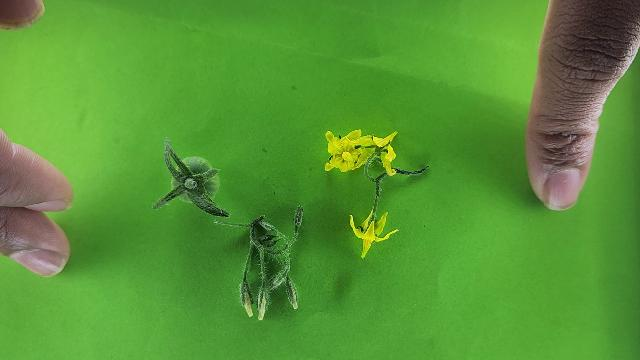Anthesis: (349, 206, 399, 259), (324, 128, 370, 172), (367, 133, 399, 174)
Flower Bud: (293, 205, 304, 241), (242, 290, 253, 316), (289, 282, 298, 309), (258, 298, 266, 321)
Fruit Maturation: (173, 156, 220, 203)
